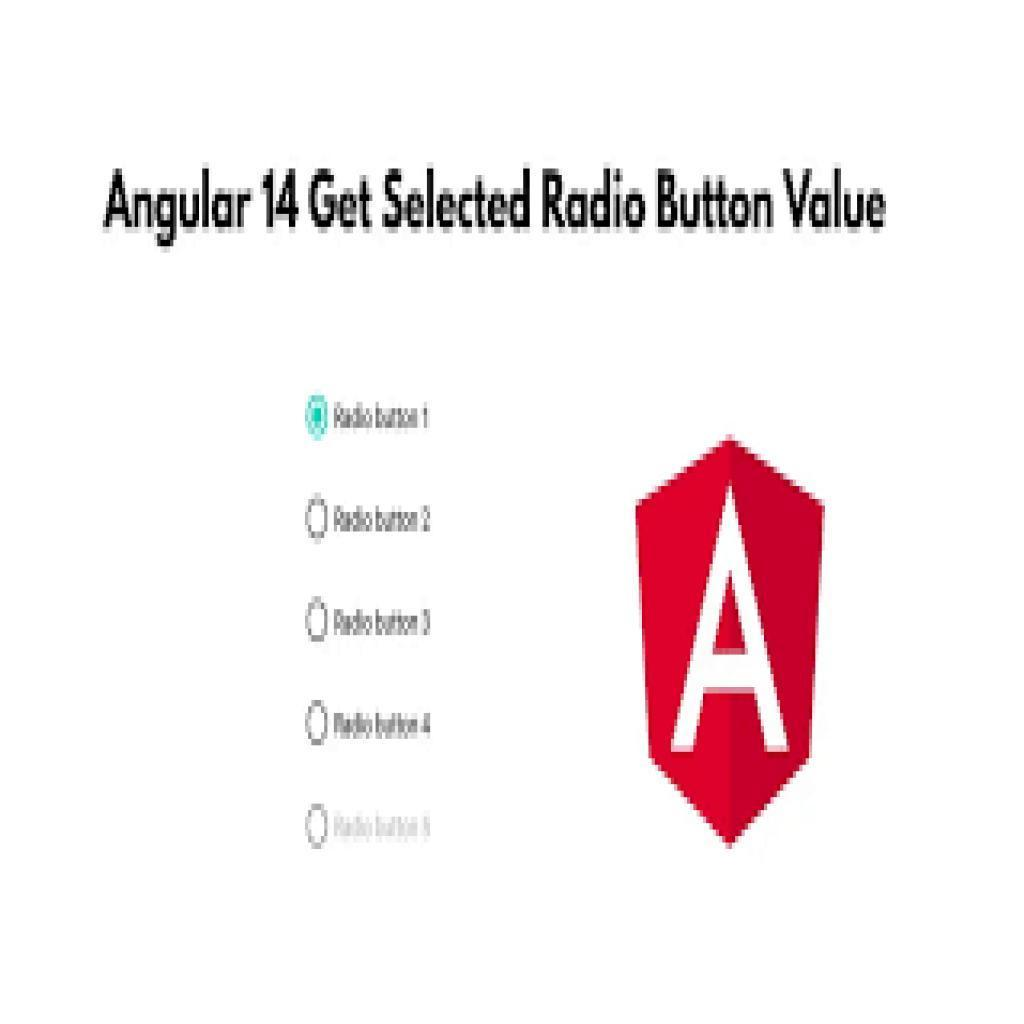radio: (307, 394, 330, 442), (306, 803, 329, 851), (307, 699, 330, 746), (307, 495, 330, 540), (307, 596, 328, 643)
